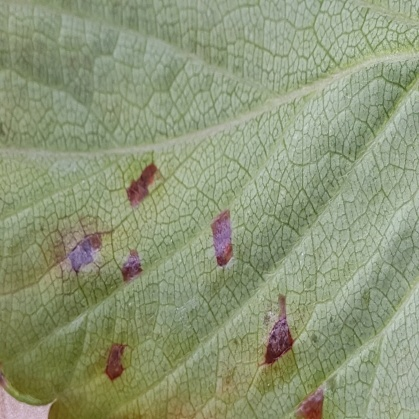Angular_LS: (38, 156, 418, 418)
